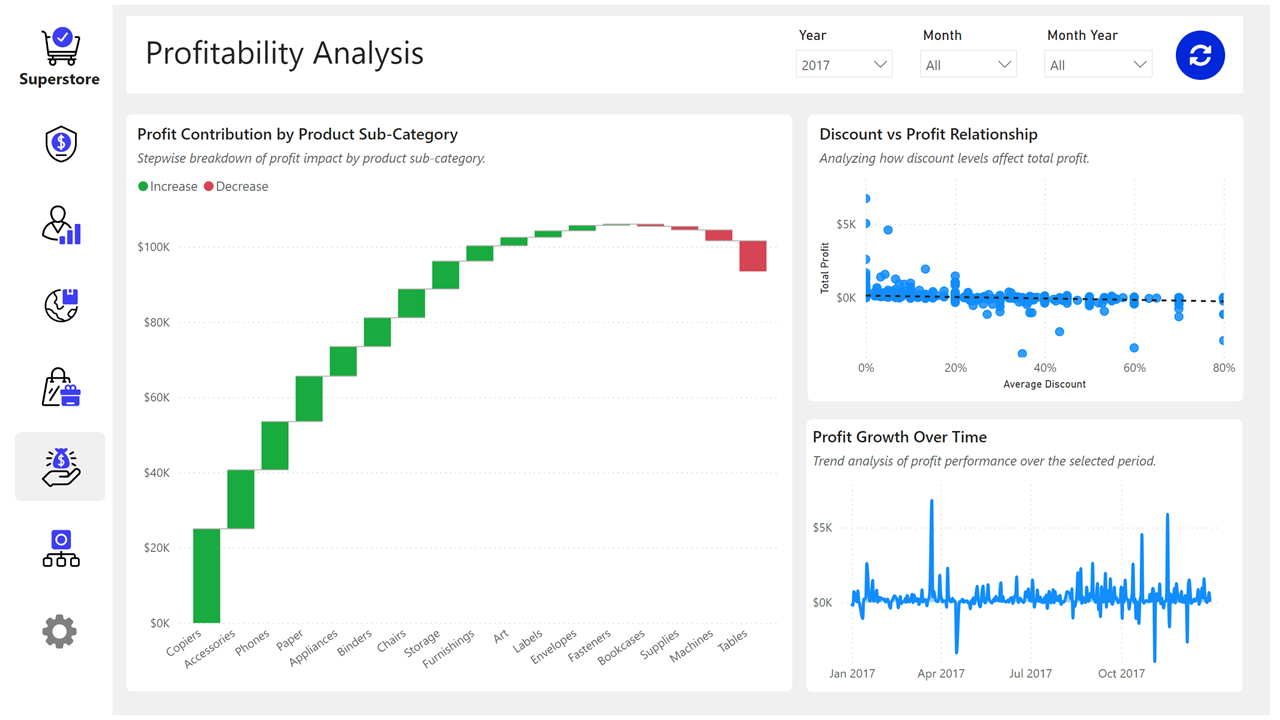

The dashboard page shown, as its layout file describes it:
{"tool":"powerbi","page":{"name":"Profitability Analysis","canvas":[1280,720],"ordinal":5},"visuals":[{"type":"shape","box":[810,420,442.2,276.7],"z":0},{"type":"shape","box":[811,111,442,291],"z":1000},{"type":"shape","box":[120.4,111.3,675.5,585.2],"z":2000},{"type":"shape","box":[120,11.4,1132.9,78.6],"z":3000},{"type":"textbox","box":[134.3,20,505.7,62.9],"z":4000},{"type":"waterfallChart","title":"Profit Contribution by Product Sub-Category","fields":{"Y":["Measures_.Total Profit"],"Category":["Products.Sub-Category"]},"box":[126.2,118.8,662.5,577.5],"z":5000},{"type":"scatterChart","title":"Discount vs Profit Relationship","fields":{"X":["Measures_.Average Discount"],"Y":["Measures_.Total Profit"],"Category":["Orders.Order ID"]},"box":[818.2,119.1,432,276.2],"z":6000},{"type":"areaChart","title":"Profit Growth Over Time","fields":{"Category":["Order Date.Date"],"Y":["Measures_.Total Profit"]},"box":[811.4,425.7,437.1,270],"z":7000},{"type":"shape","box":[0,0,106,720],"z":8000},{"type":"image","box":[28.5,362,50,50],"z":9000},{"type":"image","box":[29.5,526,48,50],"z":10000},{"type":"shape","box":[6.7,433.3,91.7,70],"z":11000},{"type":"image","box":[28.5,444,50,50],"z":12000},{"type":"image","box":[29.5,116,48,50],"z":13000},{"type":"image","box":[31.5,280,44,50],"z":14000},{"type":"image","box":[28.5,198,50,50],"z":15000},{"type":"image","box":[25,17.1,56.7,50],"z":16000},{"type":"textbox","box":[3.3,58.3,98.3,41.7],"z":17000},{"type":"slicer","fields":{"Values":["Order Date.Month"]},"box":[914.7,17.1,118.6,68.6],"z":18000},{"type":"slicer","fields":{"Values":["Order Date.Year"]},"box":[788.7,17.1,118.6,68.6],"z":19000},{"type":"slicer","fields":{"Values":["Order Date.MonthYear"]},"box":[1040.6,17.1,130,68.6],"z":20000},{"type":"image","box":[1170,21.4,78.6,60],"z":21000},{"type":"image","box":[26.9,612.9,50,44.3],"z":22000}]}

Visuals, with their boxes on the page's 1280x720 design canvas (x1, y1, x2, y2). These are canvas units, not pixel positions in the 1280x720 screenshot, which may show the page scaled, cropped or inside an application window:
shape: {"left": 810, "top": 420, "right": 1252, "bottom": 697}
shape: {"left": 811, "top": 111, "right": 1253, "bottom": 402}
shape: {"left": 120, "top": 111, "right": 796, "bottom": 696}
shape: {"left": 120, "top": 11, "right": 1253, "bottom": 90}
textbox: {"left": 134, "top": 20, "right": 640, "bottom": 83}
"Profit Contribution by Product Sub-Category" waterfallChart: {"left": 126, "top": 119, "right": 789, "bottom": 696}
"Discount vs Profit Relationship" scatterChart: {"left": 818, "top": 119, "right": 1250, "bottom": 395}
"Profit Growth Over Time" areaChart: {"left": 811, "top": 426, "right": 1248, "bottom": 696}
shape: {"left": 0, "top": 0, "right": 106, "bottom": 720}
image: {"left": 28, "top": 362, "right": 78, "bottom": 412}
image: {"left": 30, "top": 526, "right": 78, "bottom": 576}
shape: {"left": 7, "top": 433, "right": 98, "bottom": 503}
image: {"left": 28, "top": 444, "right": 78, "bottom": 494}
image: {"left": 30, "top": 116, "right": 78, "bottom": 166}
image: {"left": 32, "top": 280, "right": 76, "bottom": 330}
image: {"left": 28, "top": 198, "right": 78, "bottom": 248}
image: {"left": 25, "top": 17, "right": 82, "bottom": 67}
textbox: {"left": 3, "top": 58, "right": 102, "bottom": 100}
slicer - Order Date.Month: {"left": 915, "top": 17, "right": 1033, "bottom": 86}
slicer - Order Date.Year: {"left": 789, "top": 17, "right": 907, "bottom": 86}
slicer - Order Date.MonthYear: {"left": 1041, "top": 17, "right": 1171, "bottom": 86}
image: {"left": 1170, "top": 21, "right": 1249, "bottom": 81}
image: {"left": 27, "top": 613, "right": 77, "bottom": 657}
